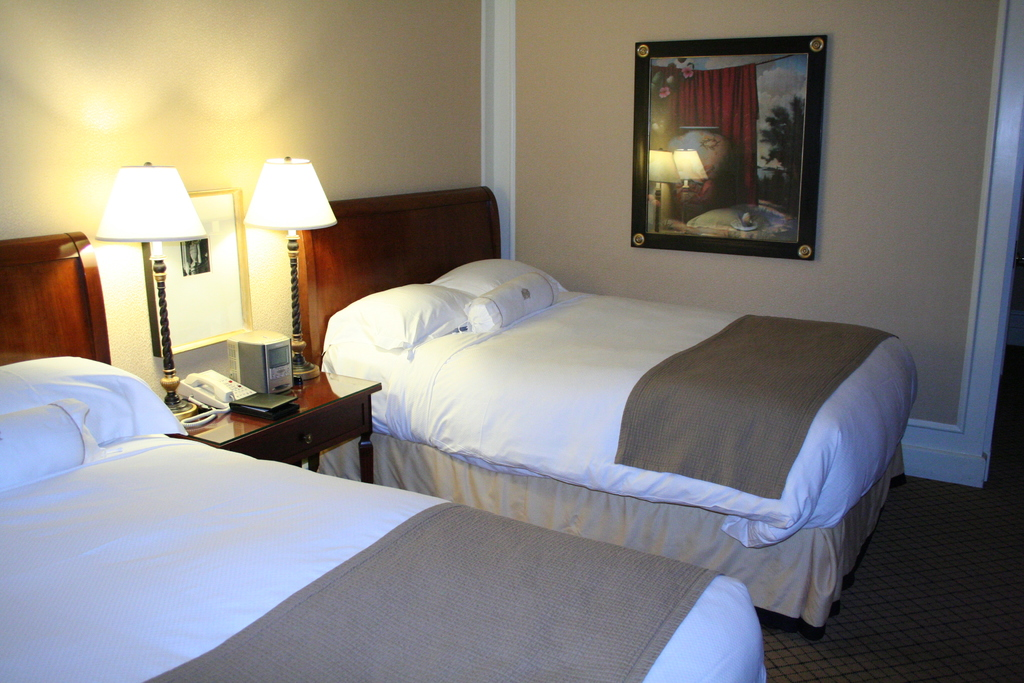cabinet door: (246, 425, 364, 454)
handle: (302, 429, 314, 446)
